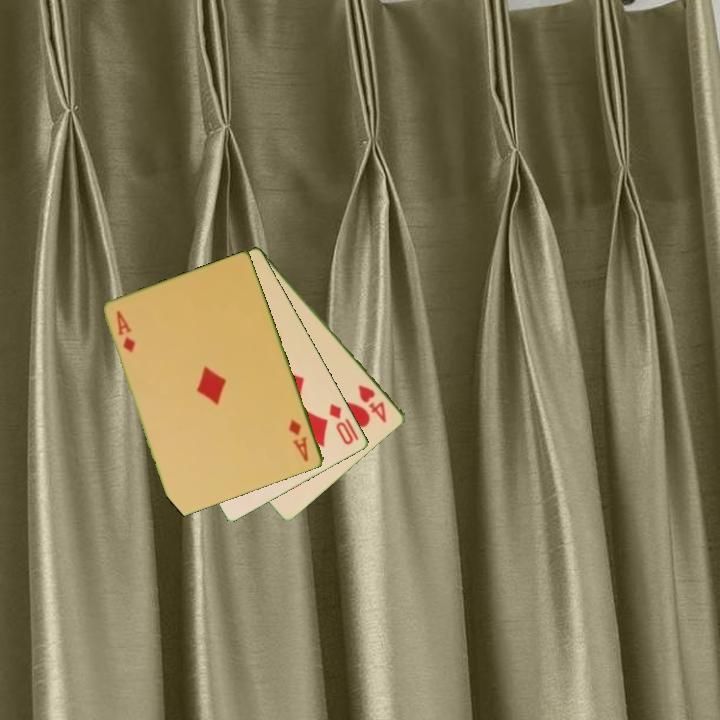10d: (326, 400, 357, 448)
4h: (355, 381, 390, 426)
Ad: (285, 416, 312, 465), (113, 307, 138, 356)
